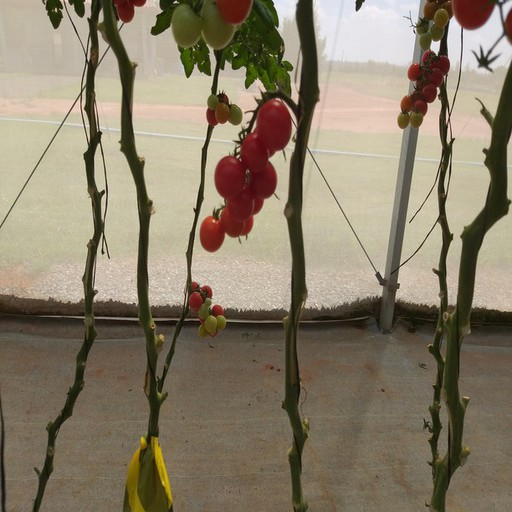green tomato bunch: (416, 1, 456, 51)
mixed tomato bunch: (169, 1, 264, 50), (191, 282, 227, 340), (203, 92, 241, 125)
red tomato bunch: (203, 96, 291, 252), (398, 48, 450, 111)
